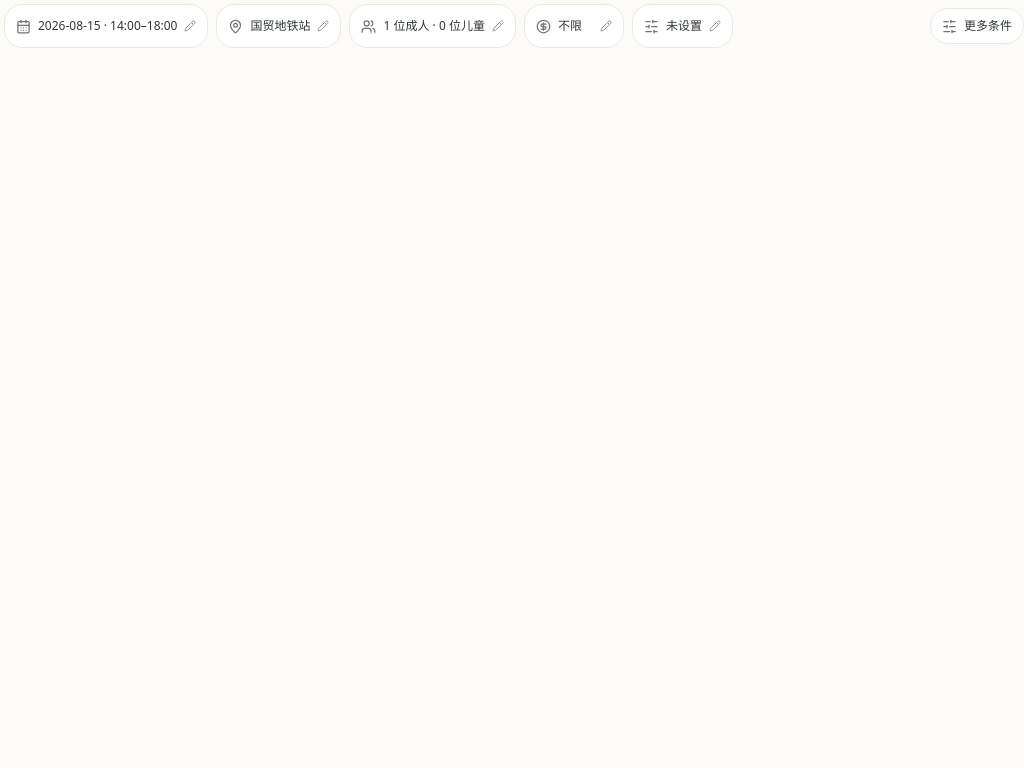
Test: PlanningContextBar typed patches › shows the selected origin and preserves it after save failure
Click the button with aria-label "修改出发地，当前国贸地铁站" at (279, 26), box top-left (216, 4), bottom-right (342, 48)
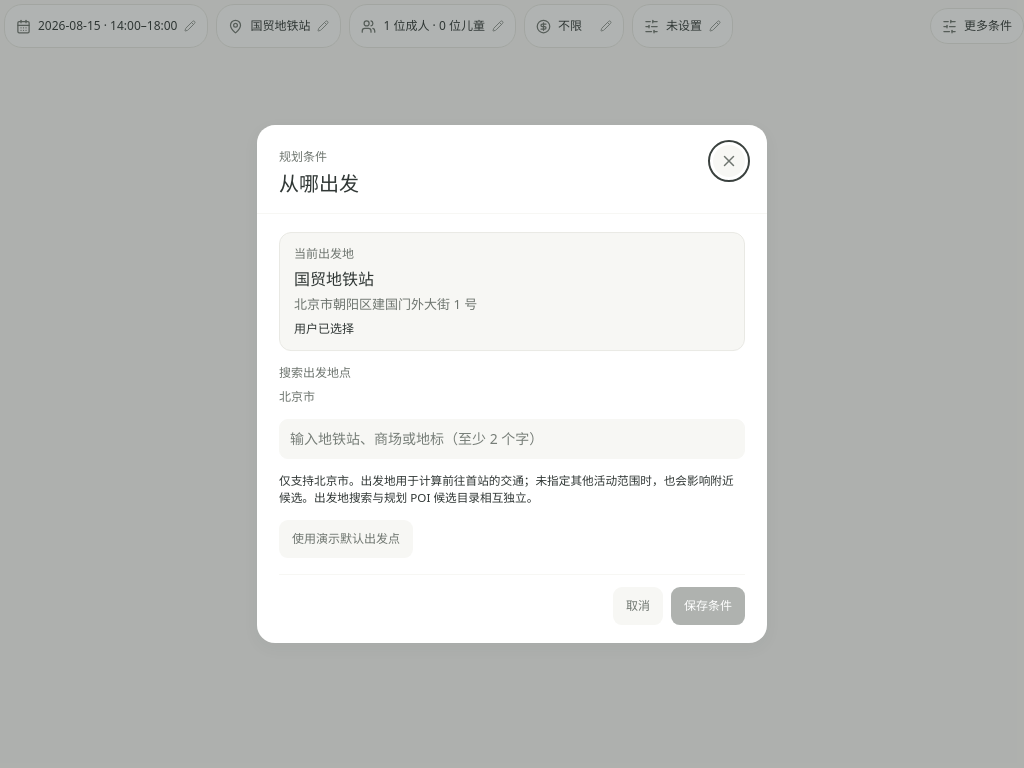
Expected: the element labelled "当前出发地" shows "国贸地铁站", top-left (294, 268), bottom-right (374, 290)
Expected: the element labelled "当前出发地" shows "北京市朝阳区建国门外大街 1 号", top-left (294, 295), bottom-right (477, 313)
Expected: the element labelled "当前出发地" shows "用户已选择", top-left (294, 320), bottom-right (354, 337)
Type "国贸" into the dropdown labelled "搜索出发地点 北京市" at (512, 439), box top-left (279, 419), bottom-right (745, 459)
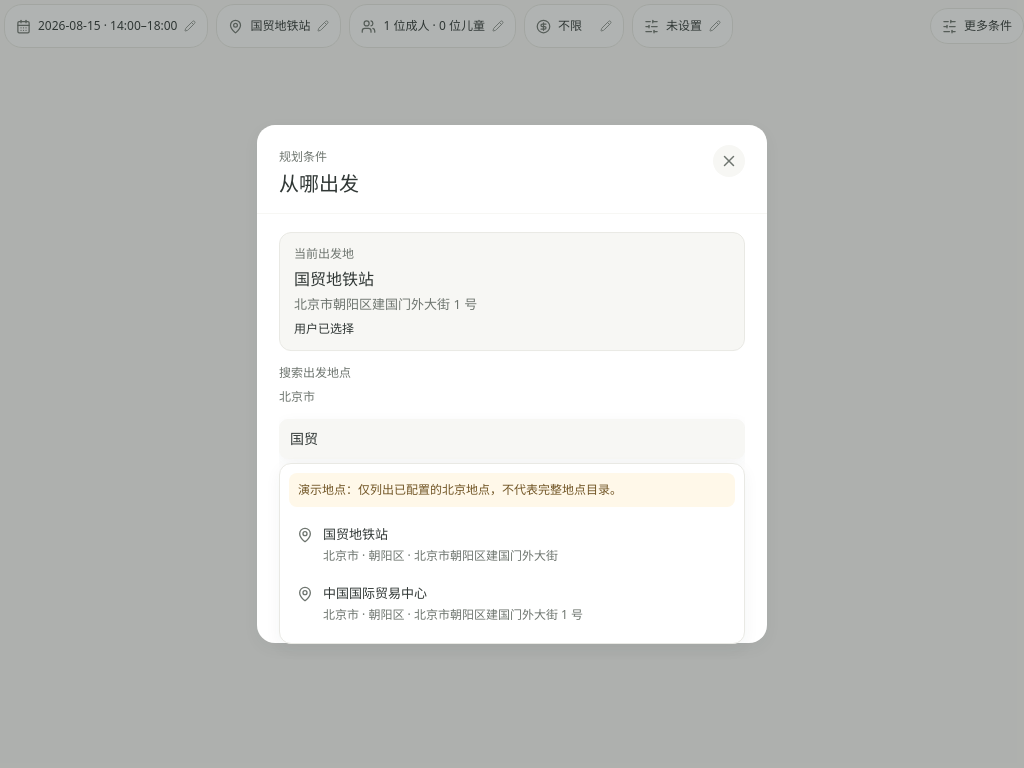
Click the option "国贸地铁站 北京市 · 朝阳区 · 北京市朝阳区建国门外大街" at (427, 544), box top-left (297, 525), bottom-right (558, 564)
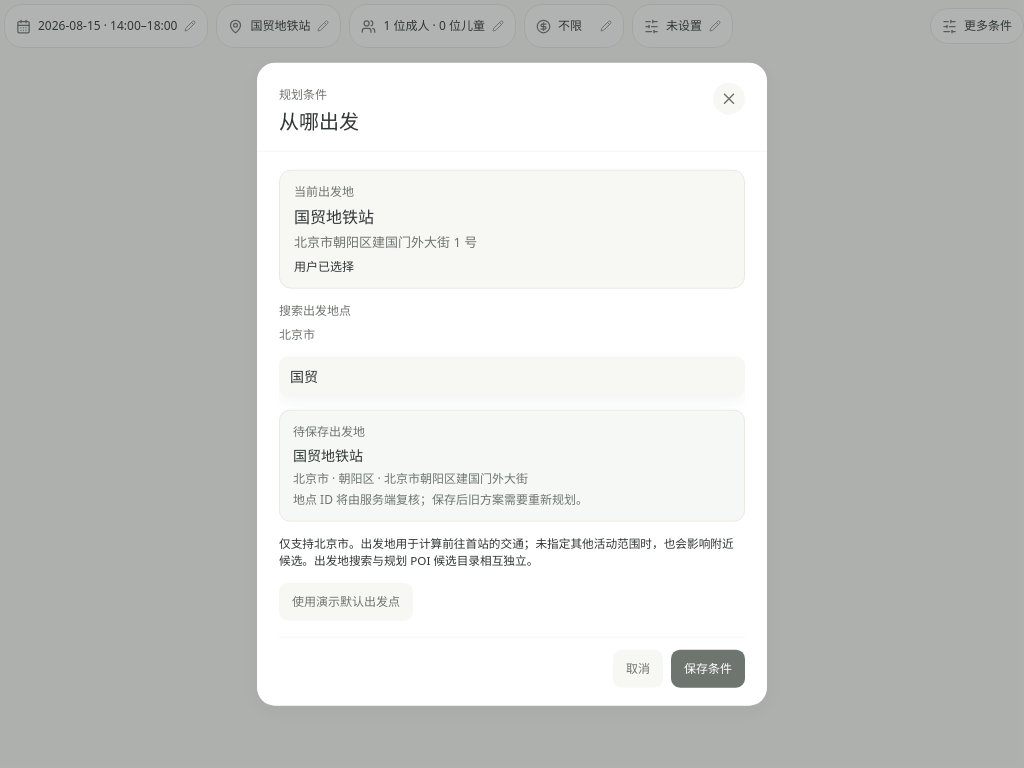
Click the button "保存条件" at (708, 668), box top-left (671, 649), bottom-right (745, 687)
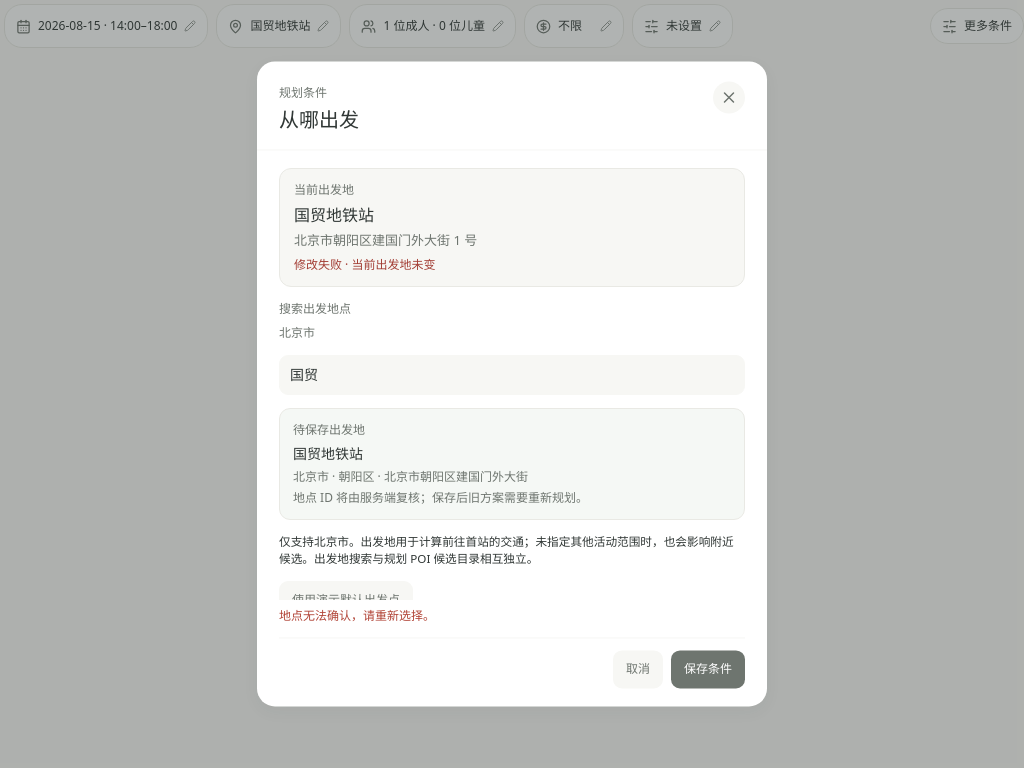
Expected: the element labelled "当前出发地" shows "国贸地铁站", top-left (294, 204), bottom-right (374, 226)
Expected: the text "修改失败 · 当前出发地未变" is shown, top-left (294, 256), bottom-right (436, 273)
